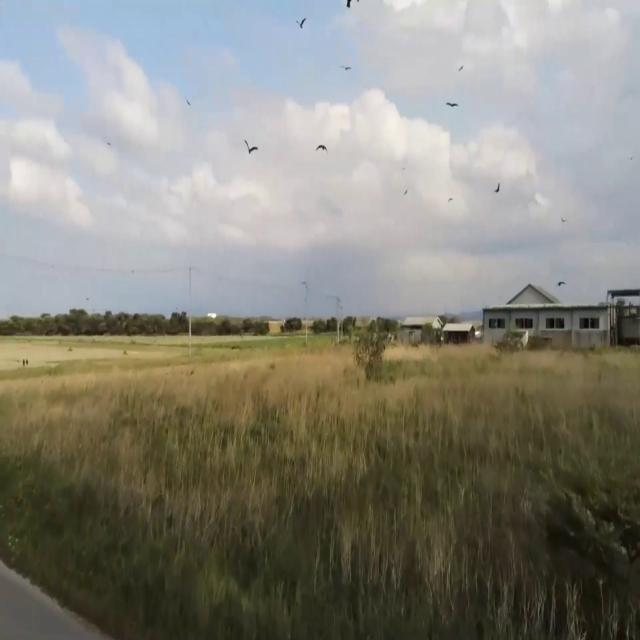bird: (243, 131, 259, 168), (315, 136, 328, 164), (445, 92, 458, 119), (296, 10, 307, 39), (341, 56, 352, 79)
